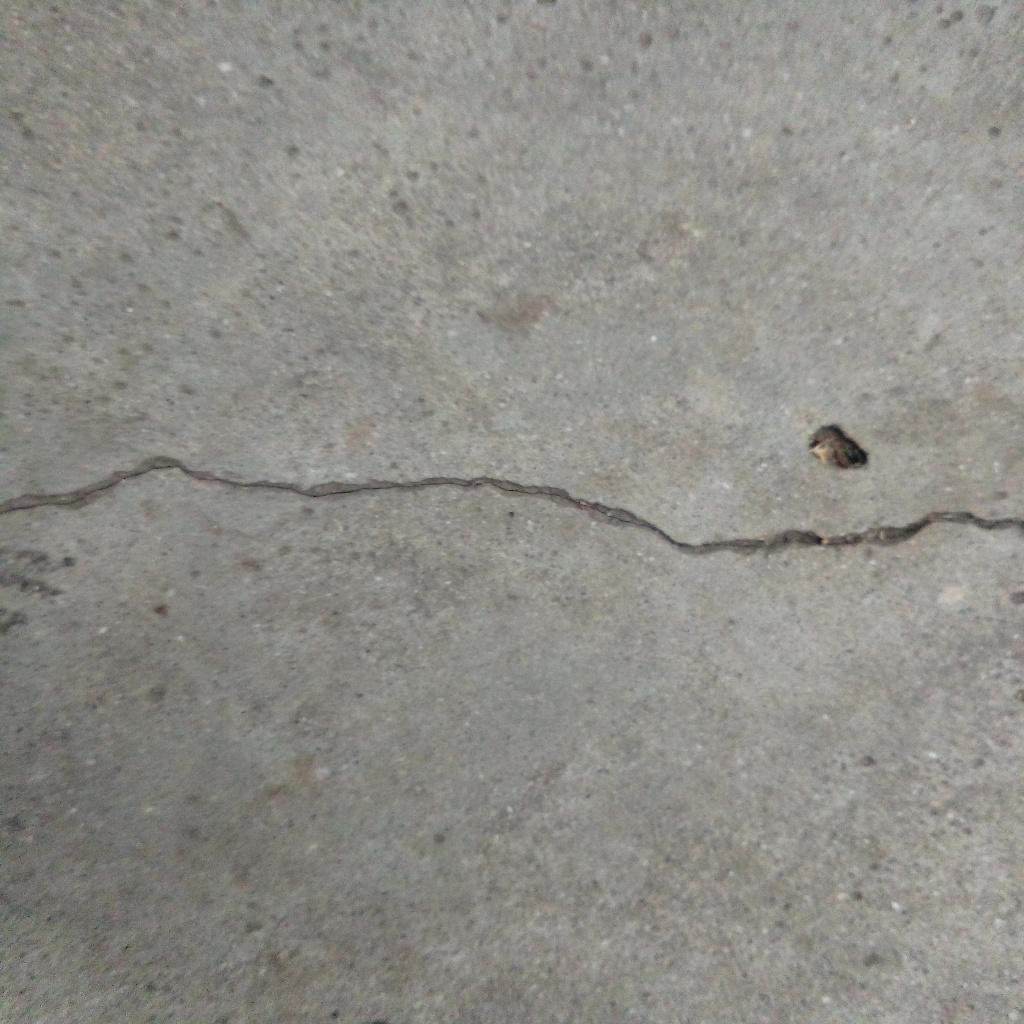Crack: (1, 454, 1024, 558)
Spalling: (807, 423, 869, 470)
